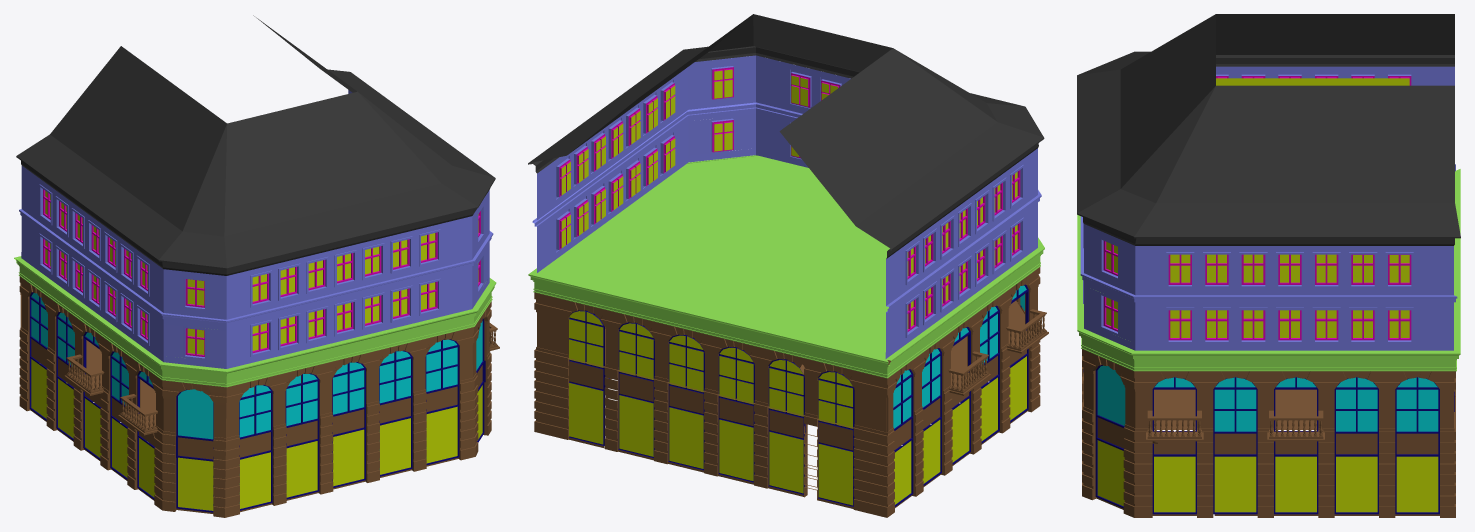
The model's file is Mesh_Building_02.fbx.
The picture shows the model from 3 angles, left to right: view 1: azimuth 30°, elevation 25°; view 2: azimuth 150°, elevation 25°; view 3: azimuth 270°, elevation 25°; orthographic projection. The views are drawn at different scales.
Visible parts, largest first — view 1: Cube.030; view 2: Cube.030; view 3: Cube.030.
Part boxes in pixels (x1,y1,x2,y2): Cube.030: (14, 15, 499, 517); Cube.030: (528, 14, 1048, 517); Cube.030: (1077, 14, 1460, 517).
Bounding box in the file's own units: 2236 × 2017 × 1853.
